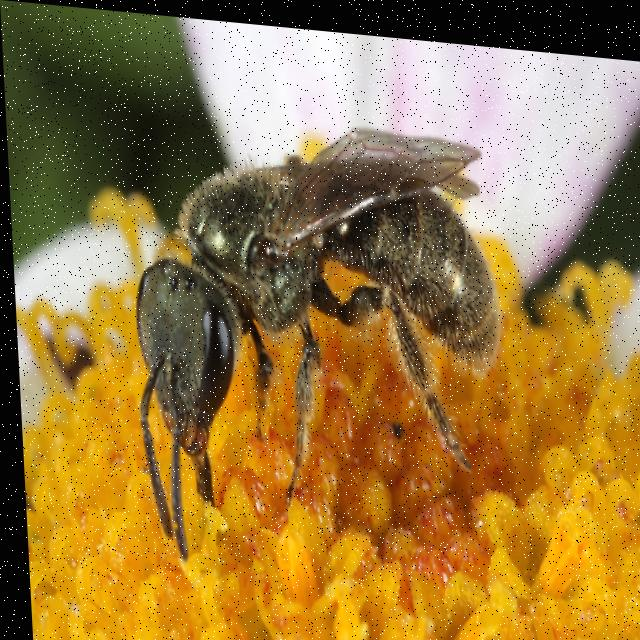Lasioglossum: (111, 89, 540, 547)
